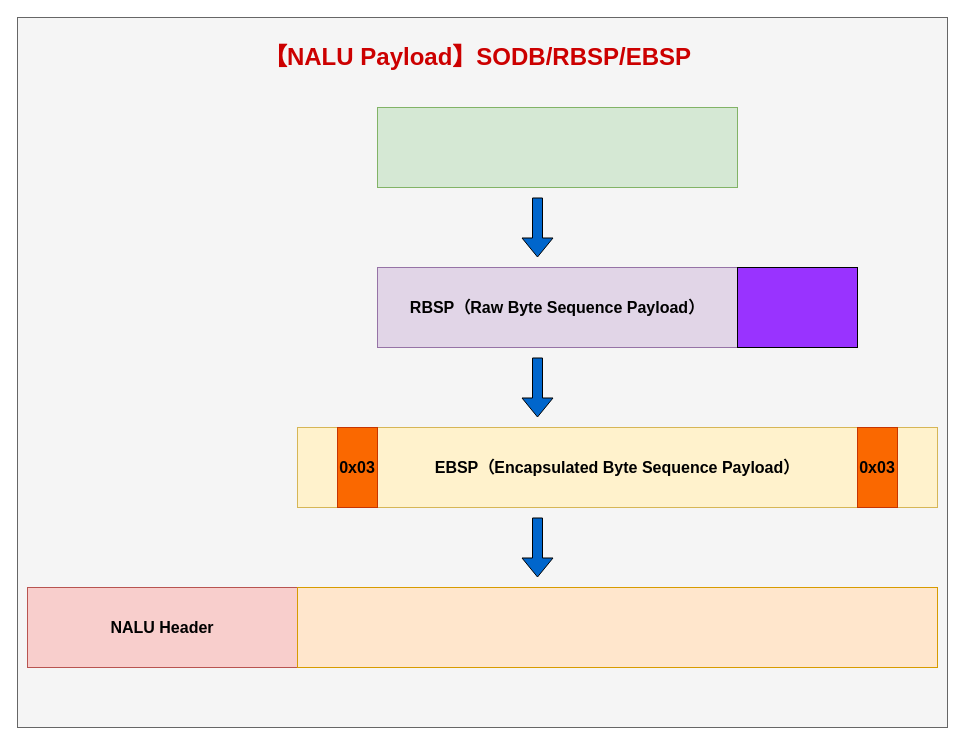
The diagram is 965 pixels wide and 745 high, and some of its shapes have lost their labels. Each missing label, with the box of its shape:
NALU Payload: (296, 586, 938, 668)
SODB（String Of Data Bits）: (376, 106, 738, 188)
Trailing Bits: (736, 266, 858, 348)
